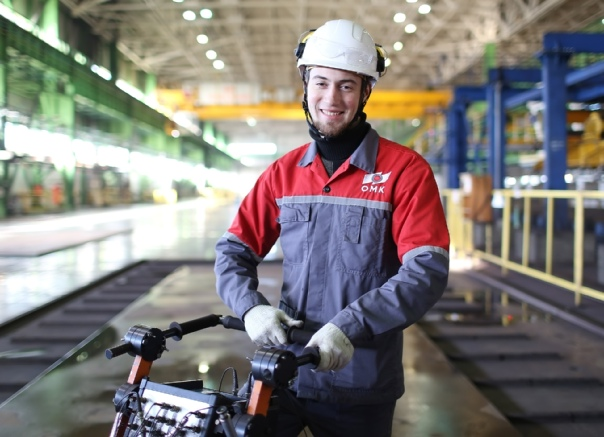person: (214, 19, 450, 437)
